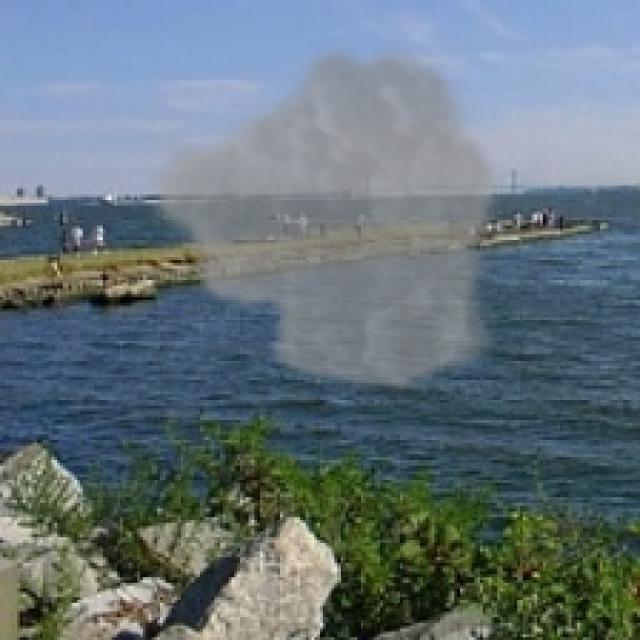Smoke: (143, 37, 503, 397)
